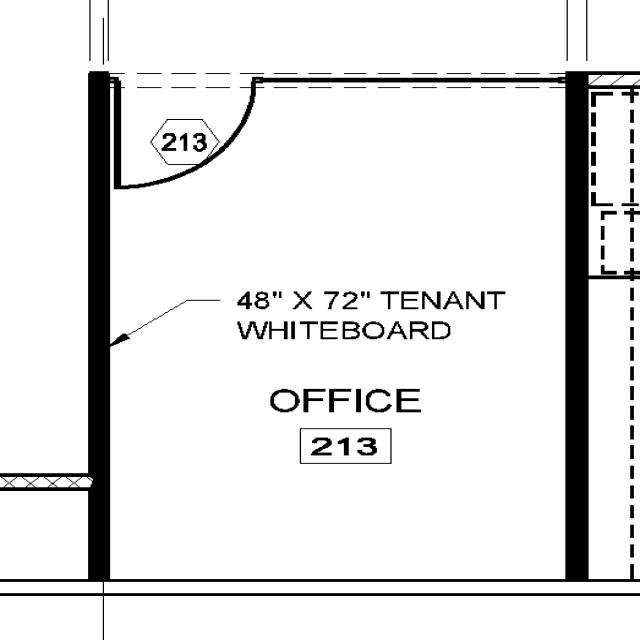Doors: (111, 74, 259, 192)
